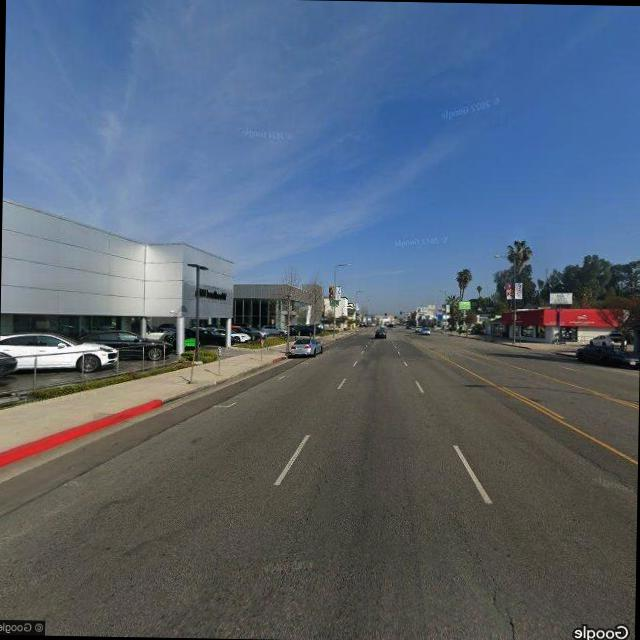pothole: (463, 535, 529, 640)
